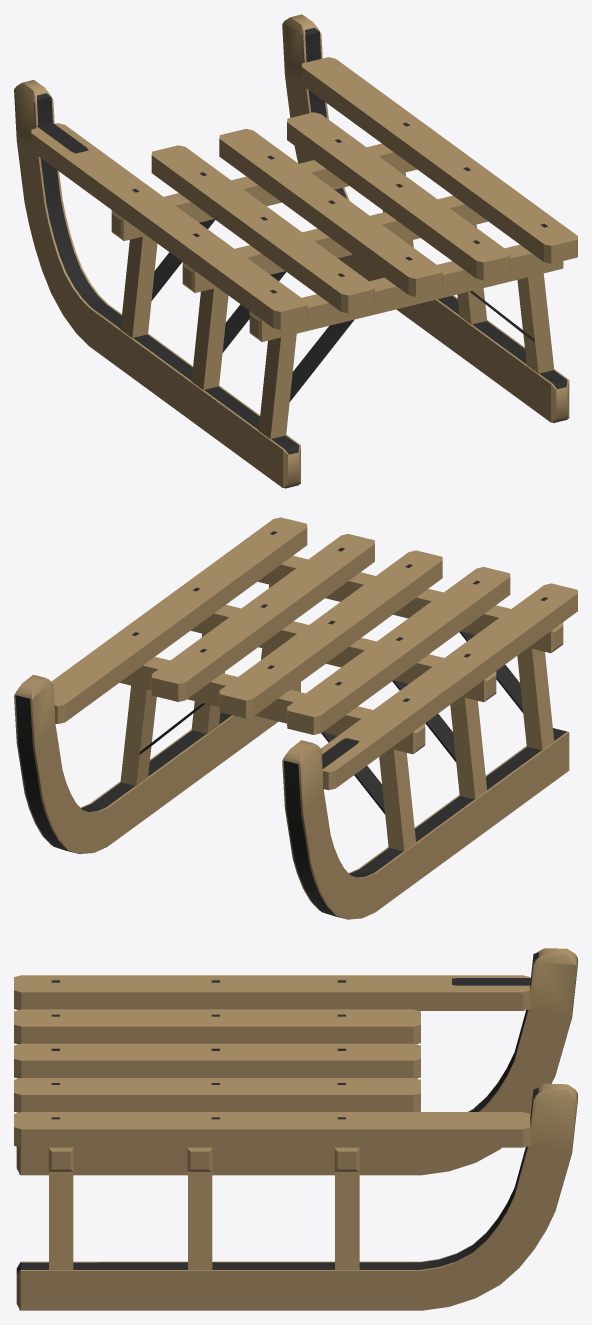
Rendered from toboggan.fbx.
3 views of the same model, one above another, from view 1: azimuth 30°, elevation 25°; view 2: azimuth 150°, elevation 25°; view 3: azimuth 270°, elevation 25° (orthographic). The views are drawn at different scales.
Visible parts, largest first — view 1: Cube; view 2: Cube; view 3: Cube.
Boxes of the visible parts, x1,y1,x2,y2 form: Cube: (14, 14, 577, 488); Cube: (14, 517, 577, 919); Cube: (14, 948, 577, 1310).
Bounding box in the file's own units: 261 × 174 × 404.
